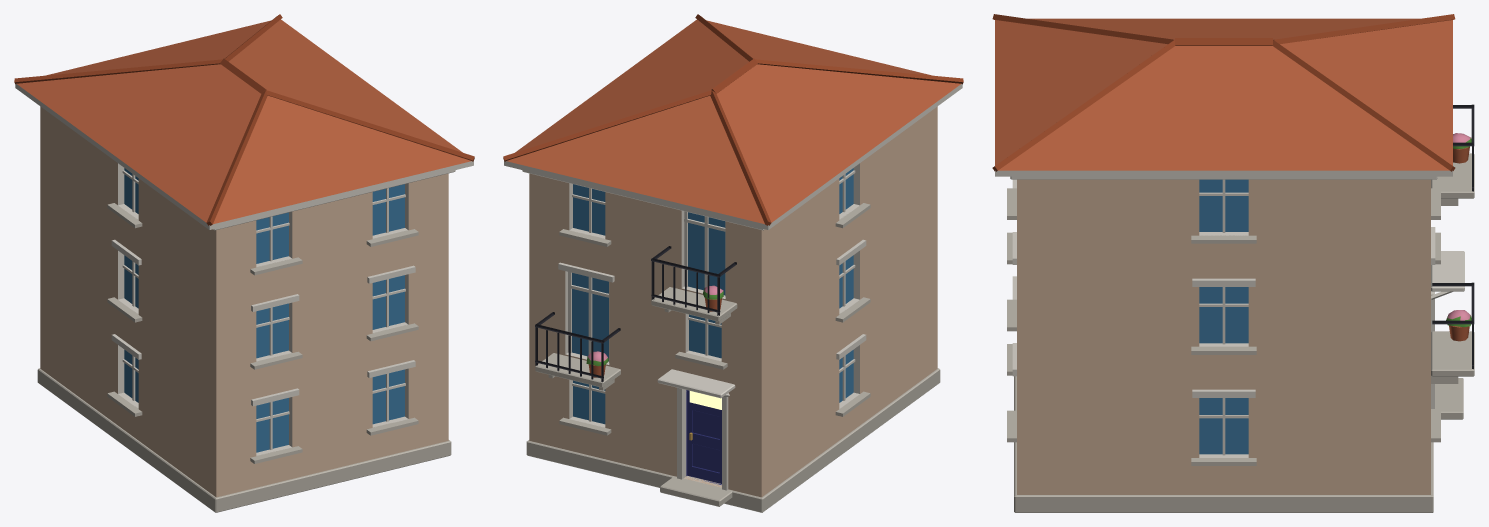
Rendered from house_a.glb.
3 renders of one model, left to right at view 1: azimuth 30°, elevation 25°; view 2: azimuth 150°, elevation 25°; view 3: azimuth 270°, elevation 25°, orthographic. The views are drawn at different scales.
Parts seen in each view (by area): view 1: house; view 2: house, plants; view 3: house, plants.
Part boxes in pixels (x1,y1,x2,y2): house: [14, 14, 474, 512]; house: [503, 14, 963, 512]; plants: [586, 285, 723, 377]; house: [992, 14, 1474, 512]; plants: [1446, 133, 1471, 341].
Bounding box in the file's own units: 6.7 × 8.25 × 8.85.
